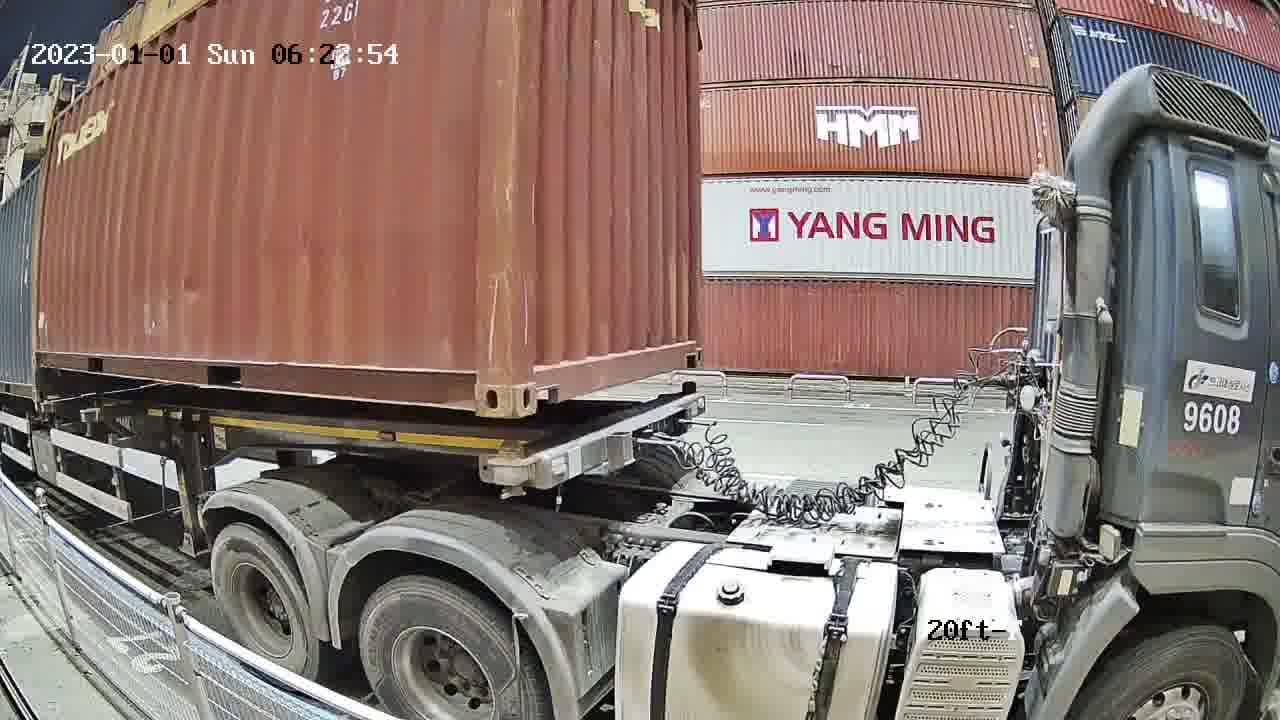Chassis: (489, 393, 703, 491)
Cone: (492, 443, 529, 501)
Hole_L: (510, 340, 566, 419)
Hole_R: (447, 350, 511, 419), (675, 330, 705, 370)
Tire: (362, 579, 544, 717), (210, 526, 318, 688)
